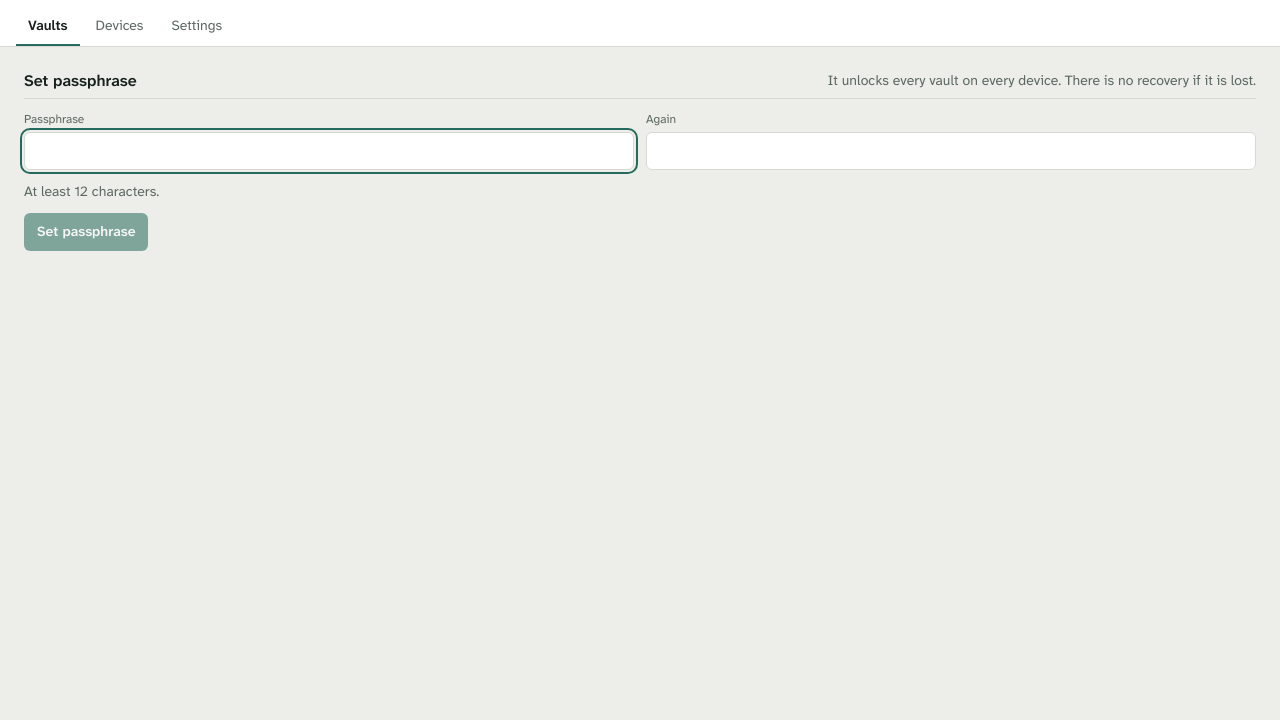
it: the unlock step (spec §12.1) › sets the passphrase on a new account, twice and at least 12 characters
expect the button with test id "setPassphraseButton" is disabled: met, box [24,213,148,251]
Type "short" into the password field with test id "unlockField".
click(329, 151); type("short")  # box [24,132,634,170]
Type "short" into the password field with test id "unlockConfirmField".
click(951, 151); type("short")  # box [646,132,1256,170]
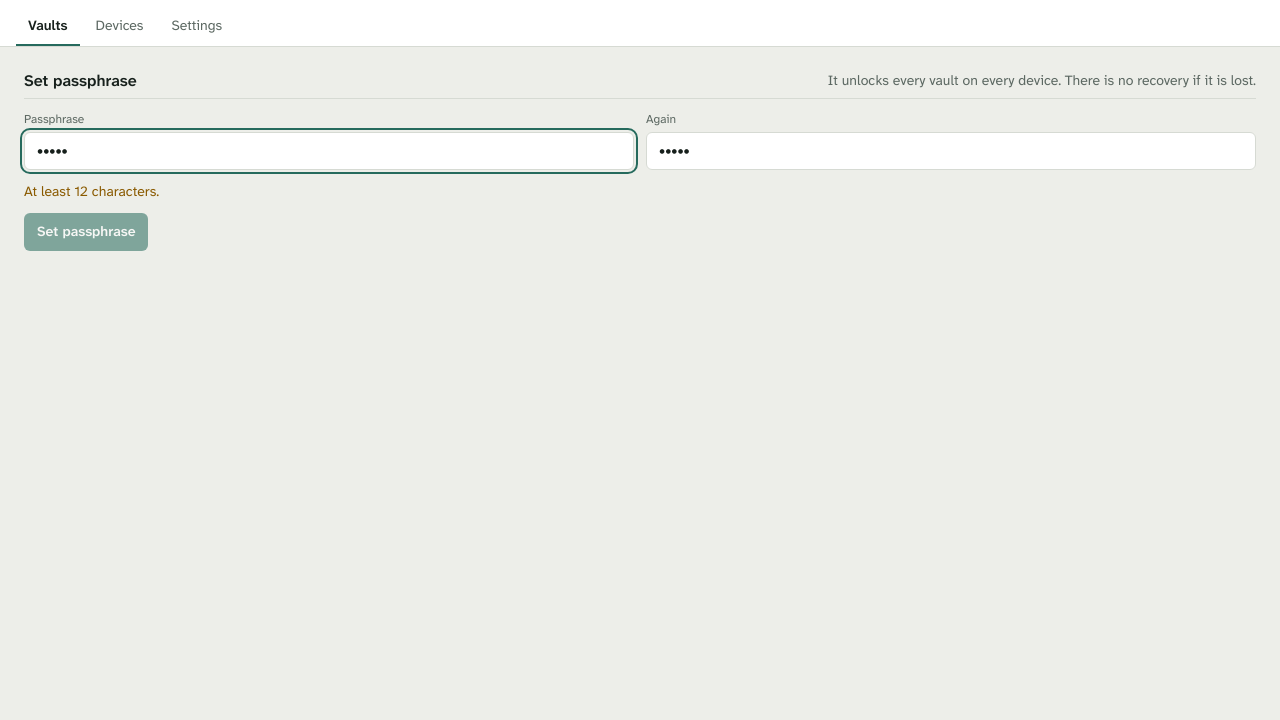
expect the button with test id "setPassphraseButton" is disabled: met, box [24,213,148,251]
Type "correct horse battery" into the password field with test id "unlockField".
click(329, 151); type("correct horse battery")  # box [24,132,634,170]
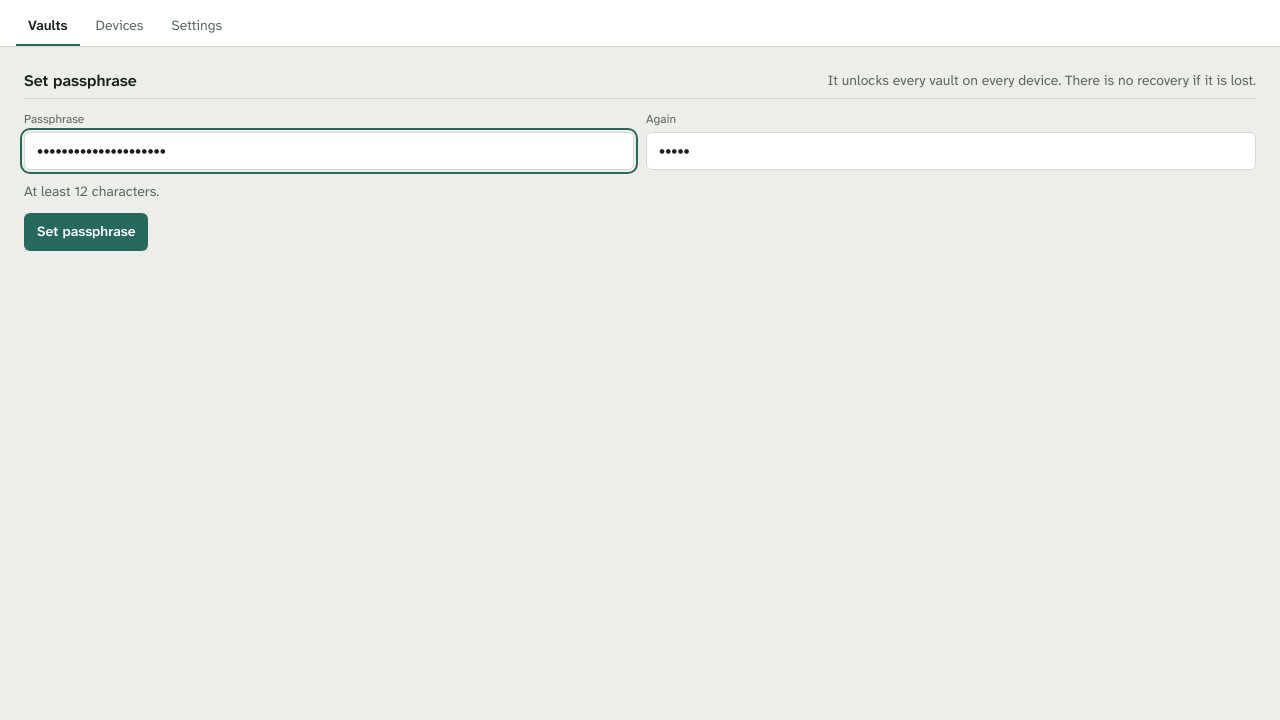
Type "nope" into the password field with test id "unlockConfirmField".
click(951, 151); type("nope")  # box [646,132,1256,170]
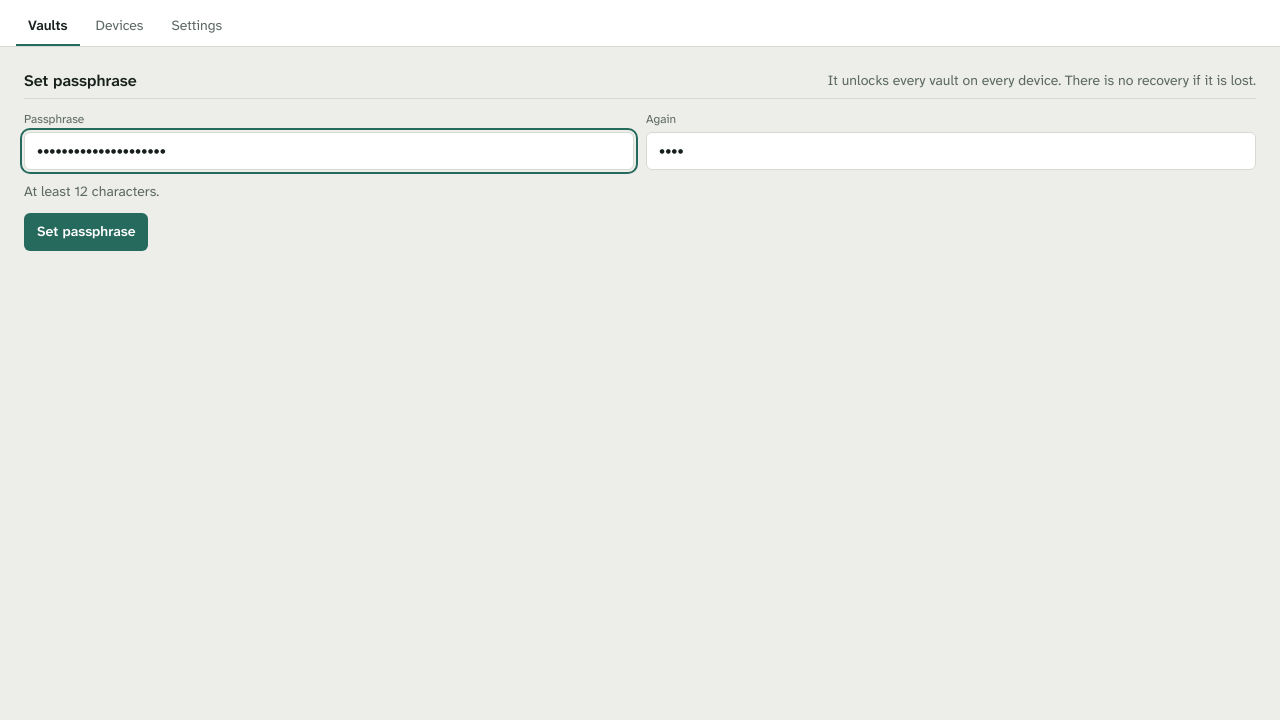
Click the button with test id "setPassphraseButton".
click(86, 232)  # box [24,213,148,251]
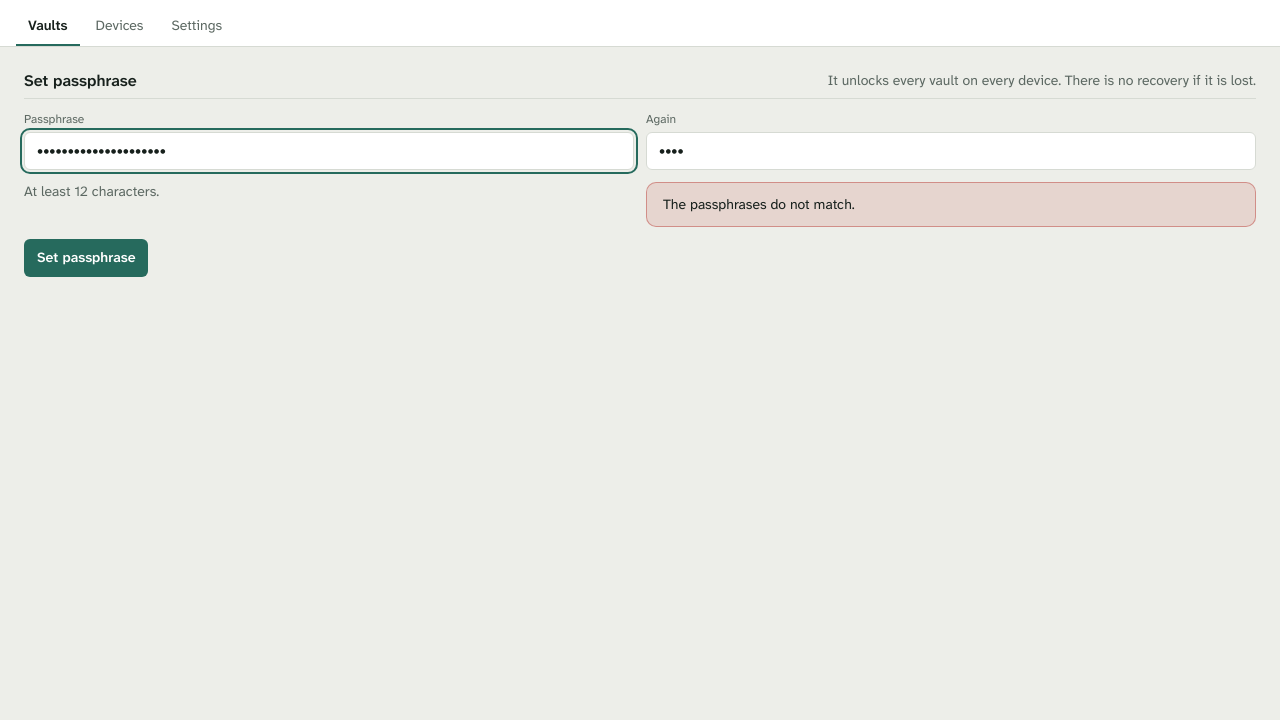
expect the text "The passphrases do not match." is shown: met, box [646,182,1256,227]
Type "correct horse battery" into the password field with test id "unlockConfirmField".
click(951, 151); type("correct horse battery")  # box [646,132,1256,170]
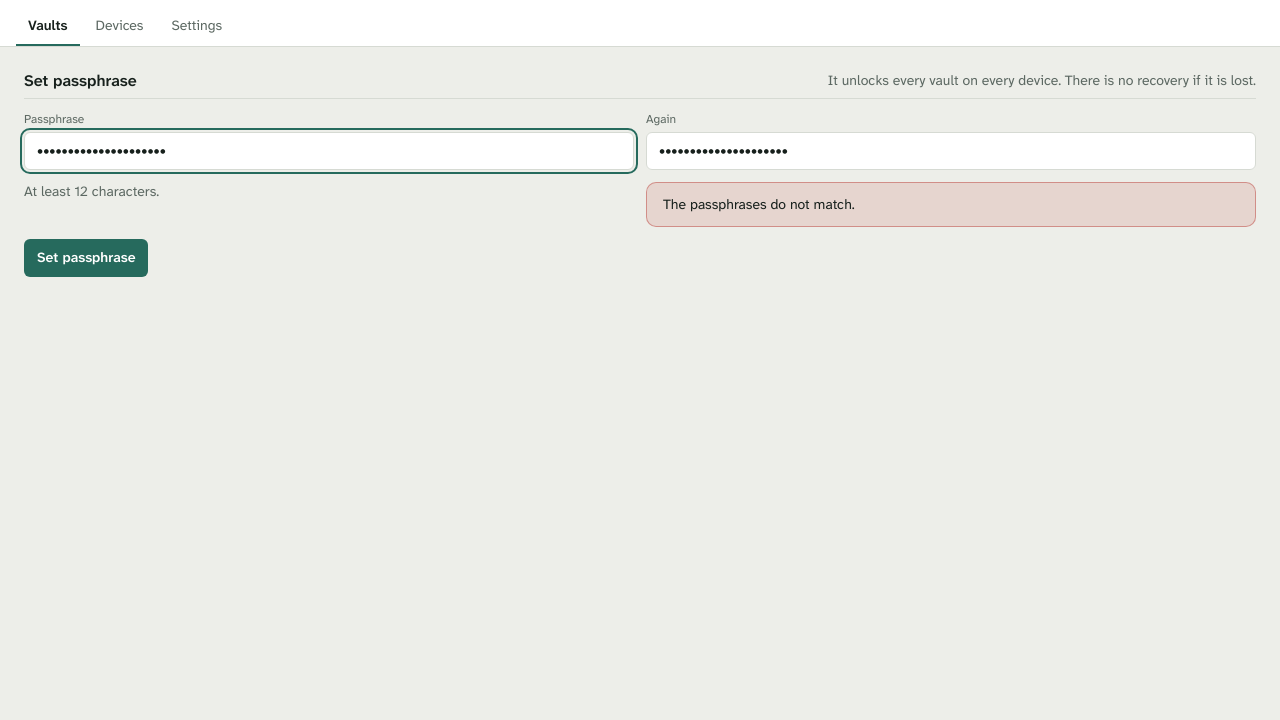
Click the button with test id "setPassphraseButton".
click(86, 258)  # box [24,239,148,277]
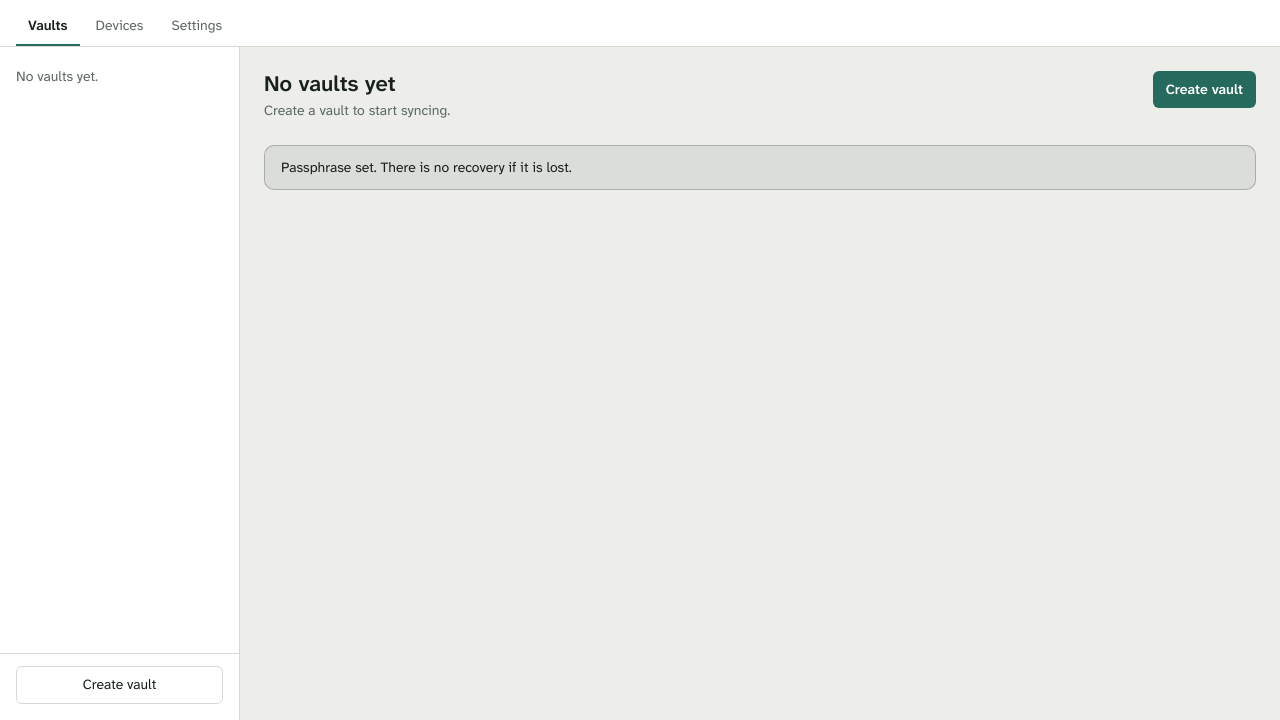
expect the text "Passphrase set. There is no recovery if it is lost." is shown: met, box [264,145,1256,190]
